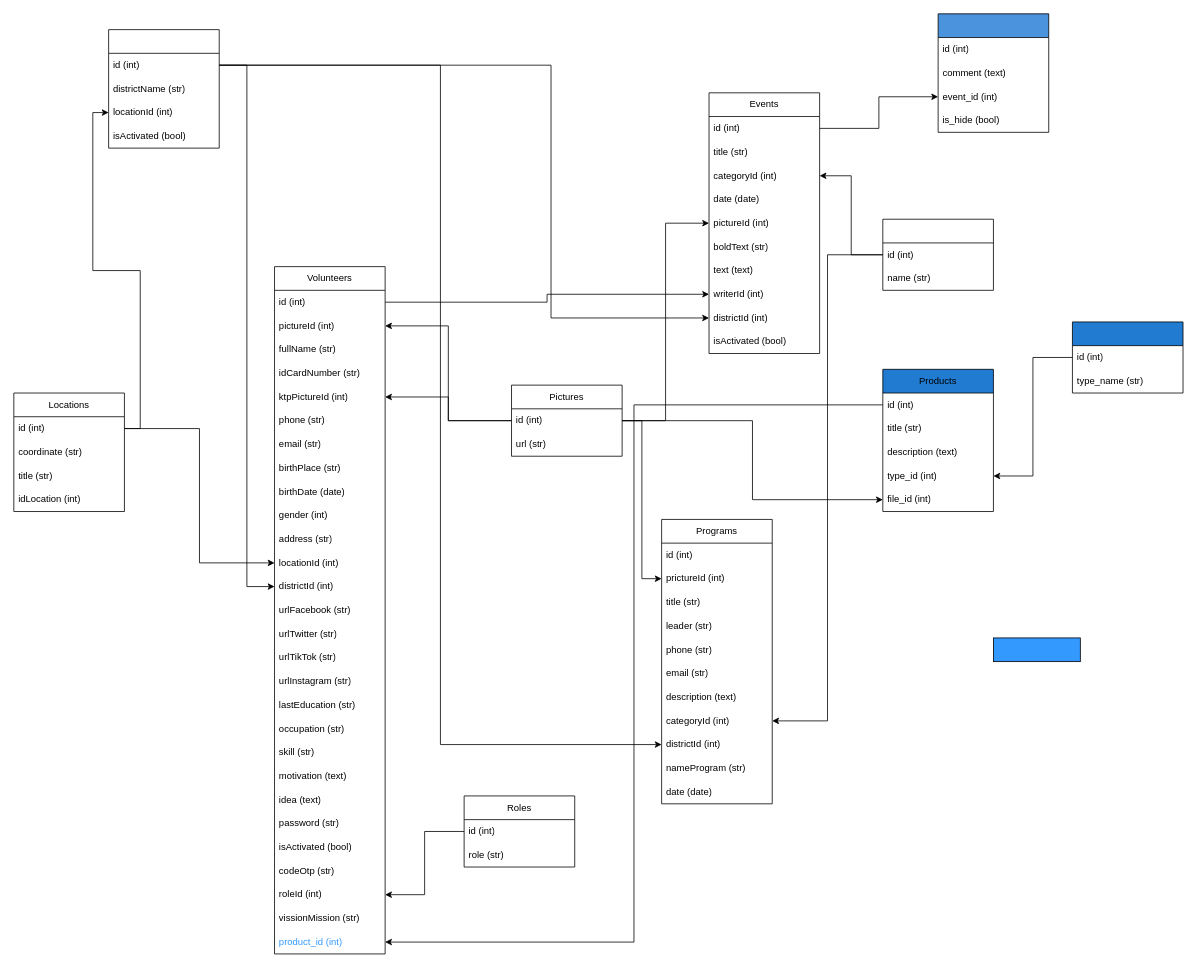
Image size: 1197x968. Some labels were removed from this diagram. The shapes that lost their labels are listed below. From the top down, each one's box as (x1, y1, x2, y2) in pixels, then its label:
(108, 29, 219, 148): Districts
(937, 13, 1049, 132): Comments
(882, 218, 993, 290): Categories
(1072, 321, 1183, 393): Types
